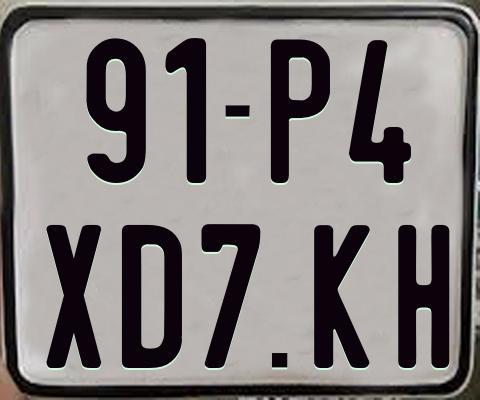1: (165, 36, 212, 181)
4: (346, 37, 414, 186)
7: (201, 222, 263, 369)
9: (85, 38, 148, 187)
D: (120, 225, 182, 368)
H: (397, 222, 454, 365)
K: (313, 223, 369, 369)
P: (269, 36, 331, 185)
X: (44, 222, 103, 371)
